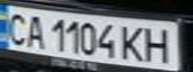0: (78, 19, 100, 56)
1: (60, 18, 81, 54), (45, 16, 66, 52)
4: (96, 20, 121, 60)
A: (21, 12, 48, 50)
C: (3, 10, 30, 46)
H: (139, 25, 178, 64)
K: (118, 22, 148, 63)
